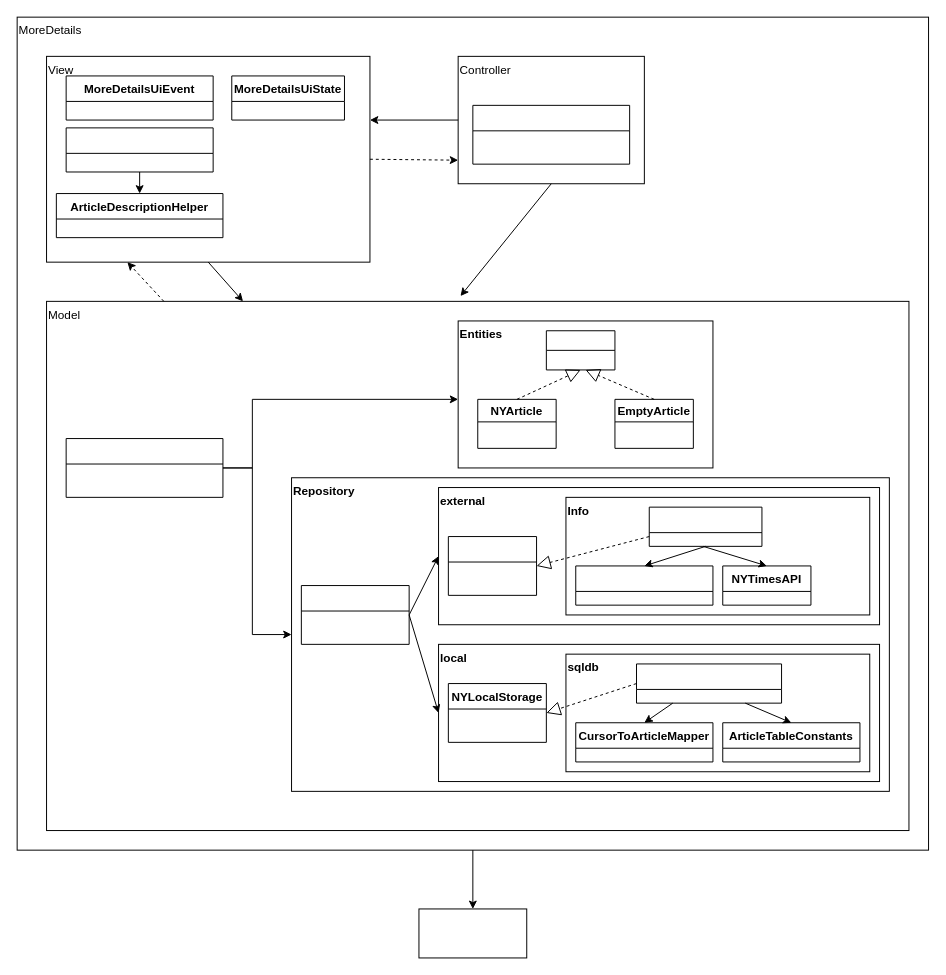
Some shapes in this 946 by 975 pixel diagram are drawn without their labels. The centre of each missing label's shape, as x and y in pixels:
Article: point 580,350
ArticleLocalStorageImpl: point 709,683
ArticleRepository: point 354,614
Home: point 472,933
MoreDetailModel: point 144,467
MoreDetailsController: point 551,134
MoreDetailsView: point 139,149
NYInfoService: point 492,565
NYInfoServiceImpl: point 705,526
NYTimesToInfoResolver: point 644,585
